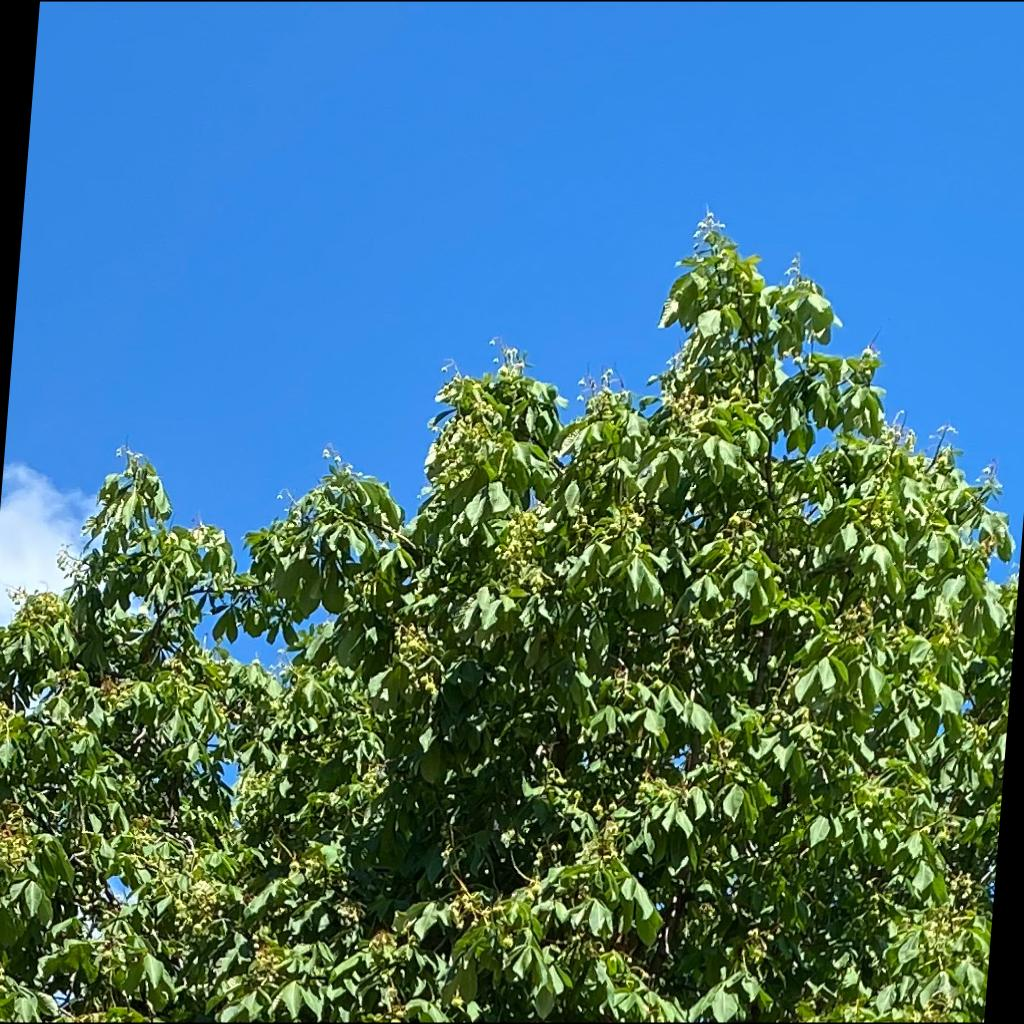tree: (1, 204, 1023, 1022)
